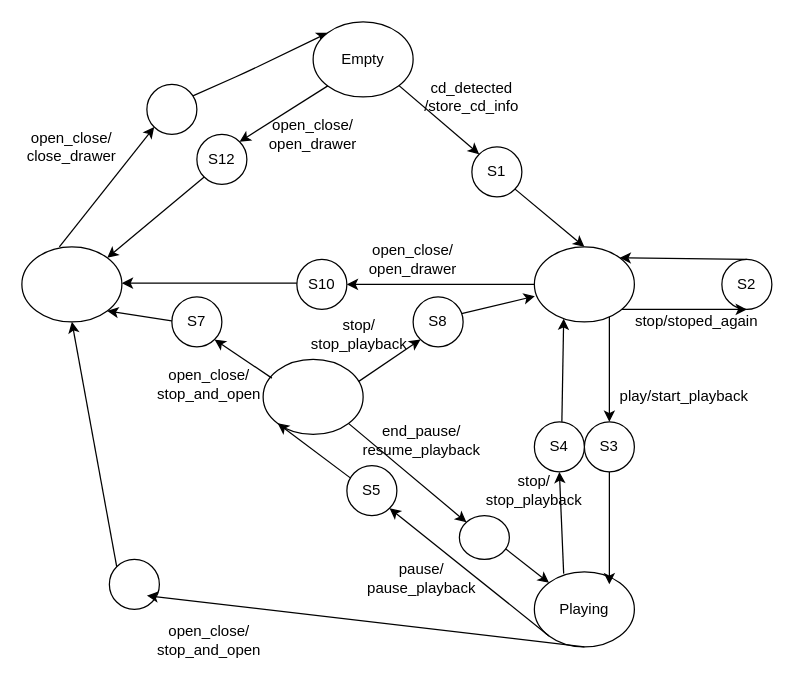
The diagram is 794 pixels wide and 681 high, and some of its shapes have lost their labels. The shapes that lost their labels are listed below. From the top down, each one's centre as x and y in pixels, then its label:
[171,108]: S11
[71,284]: Open
[583,284]: Stopped
[312,396]: Paused
[483,536]: S6
[133,583]: S9
